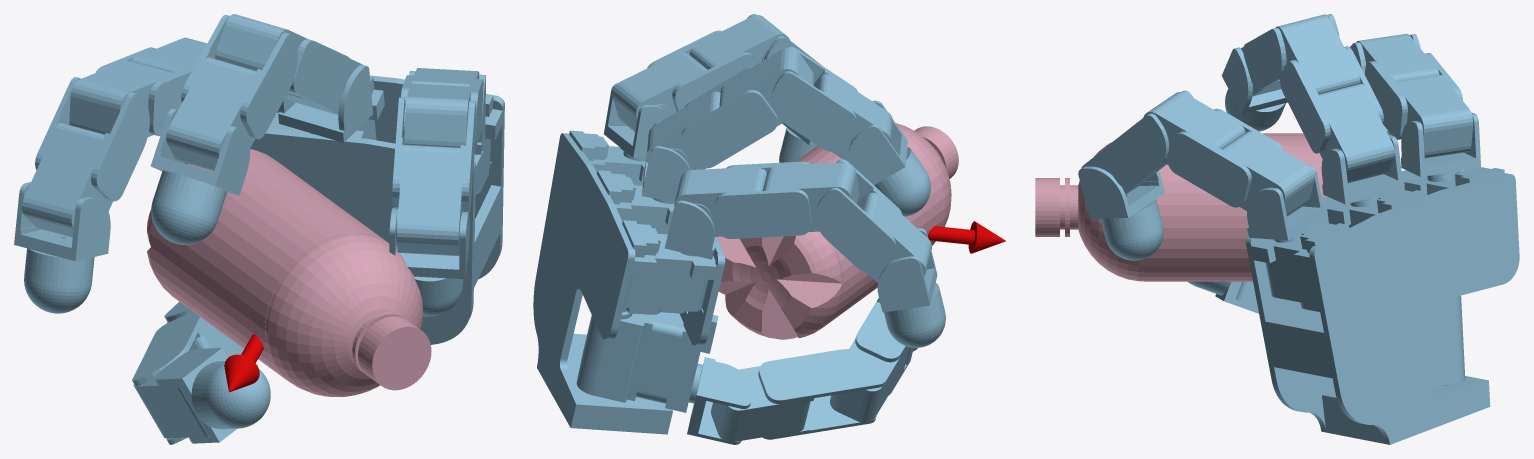
The picture shows the model from 3 angles, left to right: view 1: azimuth 30°, elevation 25°; view 2: azimuth 150°, elevation 25°; view 3: azimuth 270°, elevation 25°; orthographic projection. The views are drawn at different scales.
Visible parts, largest first — view 1: world, water_bottle.stl; view 2: world, water_bottle.stl; view 3: world, water_bottle.stl.
Part boxes in pixels (<box>): world: <box>14,14,504,444</box>; water_bottle.stl: <box>147,149,431,397</box>; world: <box>533,14,1005,444</box>; water_bottle.stl: <box>717,123,958,339</box>; world: <box>1078,14,1519,444</box>; water_bottle.stl: <box>1035,133,1326,281</box>.
Bounding box in the file's own units: 0.1907 × 0.1553 × 0.1967.
